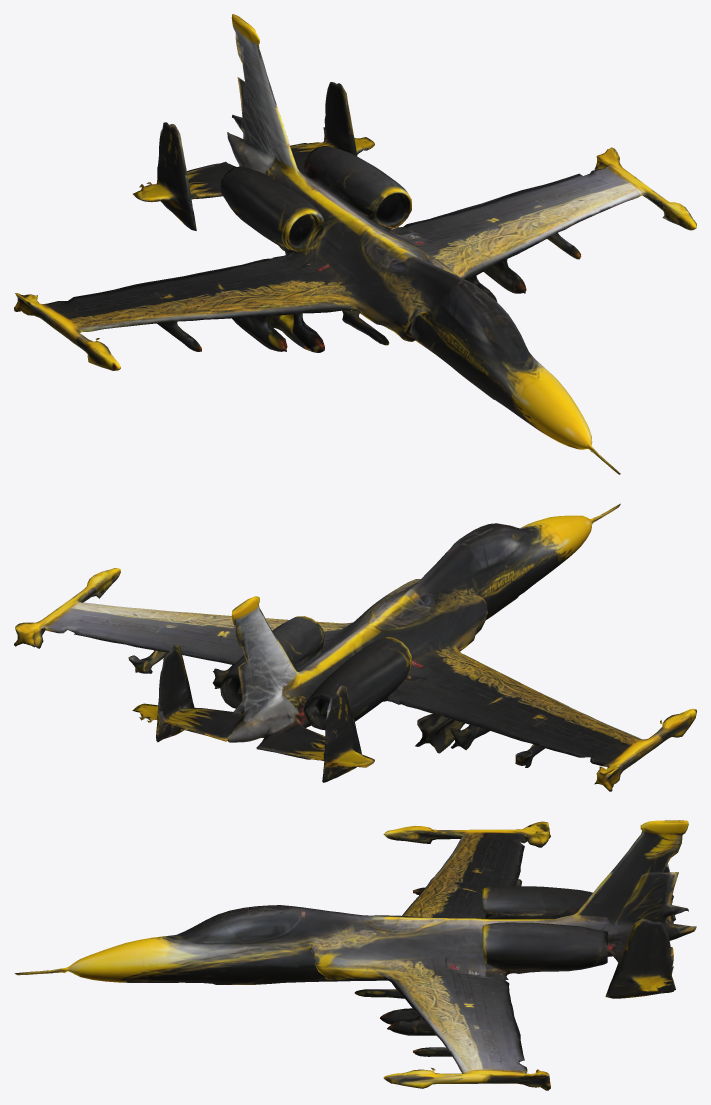
File: A10thEdited.fbx
3 renders of one model, top to bottom at view 1: azimuth 30°, elevation 25°; view 2: azimuth 150°, elevation 25°; view 3: azimuth 270°, elevation 25°, orthographic. The views are drawn at different scales.
Parts seen in each view (by area): view 1: Mesh_0.003; view 2: Mesh_0.003; view 3: Mesh_0.003.
Boxes of the visible parts, x1,y1,x2,y2 form: Mesh_0.003: (14, 14, 696, 474); Mesh_0.003: (14, 503, 696, 791); Mesh_0.003: (14, 820, 696, 1090).
Size of the model in its own units: 173 by 54.95 by 198.
Materials: 1 (1 with a texture image).
